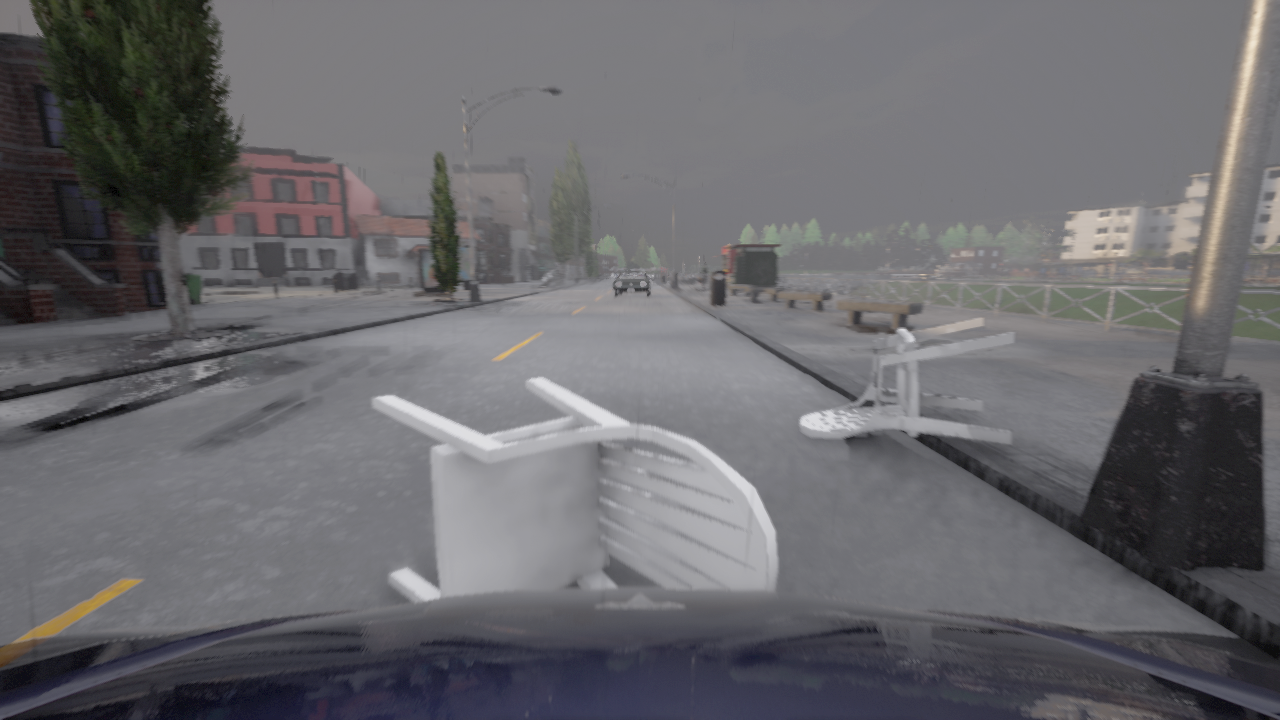cyclist: (0, 588, 1279, 719), (612, 272, 651, 297), (635, 270, 648, 276)
pedestrian: (700, 264, 708, 287), (698, 276, 701, 287)
